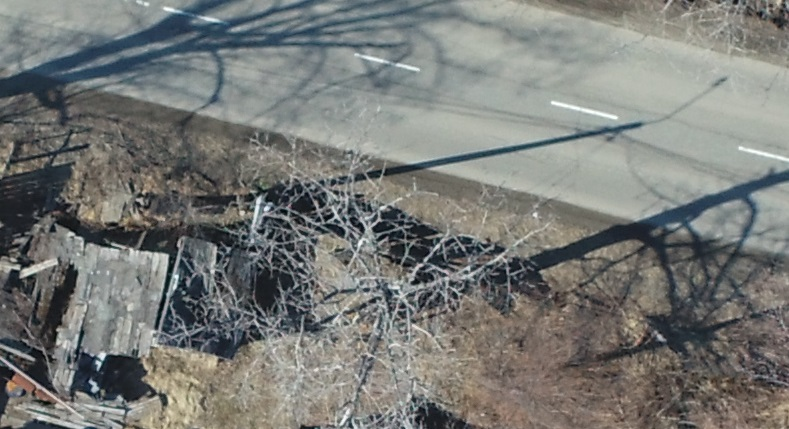opora: (247, 176, 333, 245)
